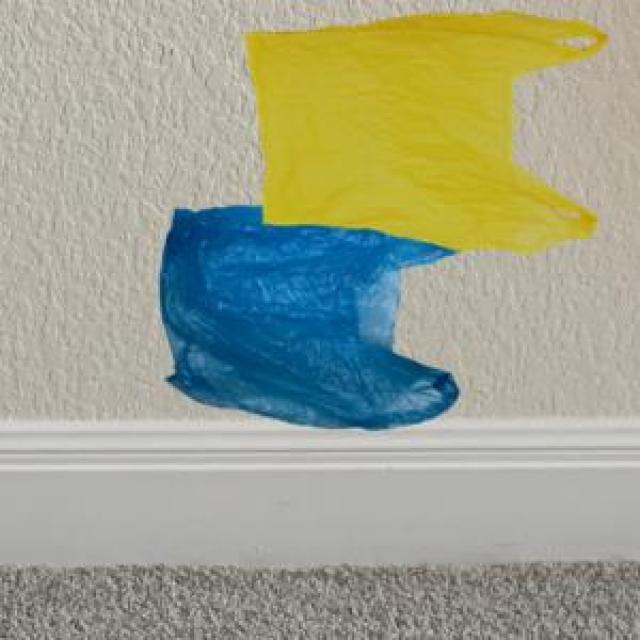waste: (160, 11, 608, 428)
